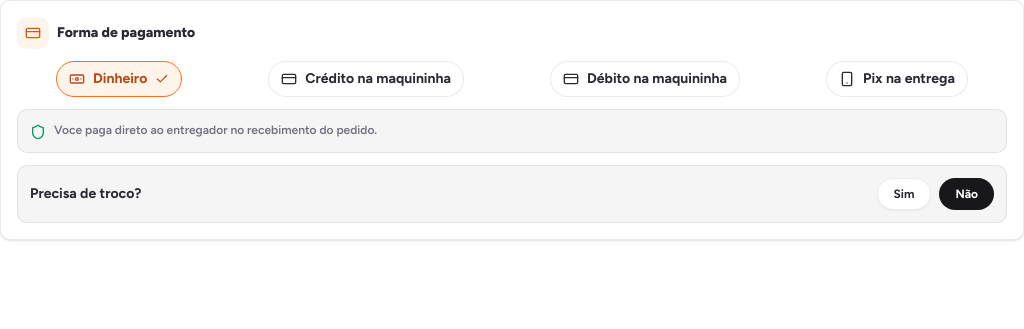
Scenario: PaymentMethod › em dinheiro, pergunta do troco e só mostra o campo depois do 'Sim'
Expected: the text "Precisa de troco?" is shown, [30,184,142,204]
Expected: the field labelled "Troco para quanto?" is not shown
Click the button "Sim" at (904, 194), box [876,178,931,210]
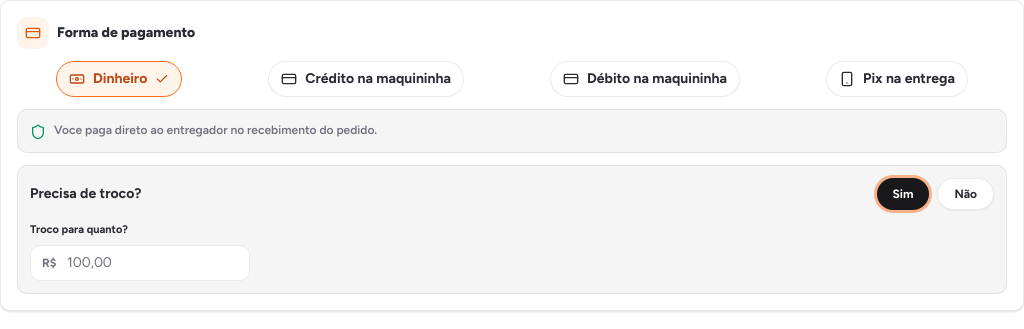
Result: the field labelled "Troco para quanto?" is shown at [30,244,250,280]
